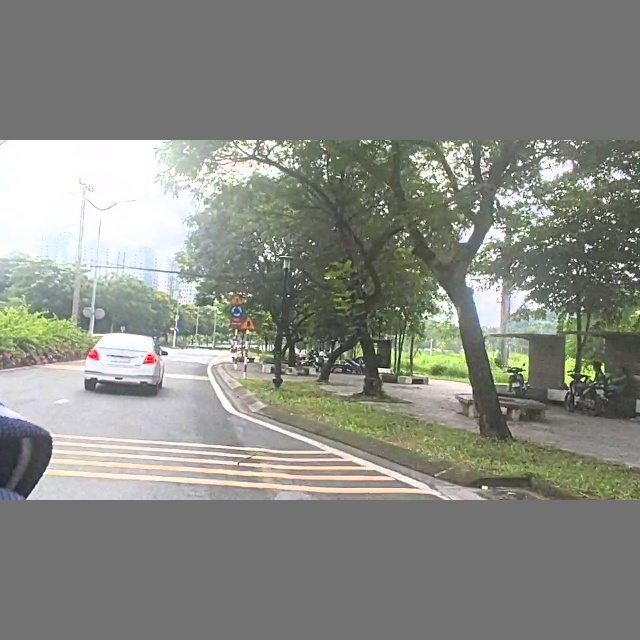P.102: (168, 326, 174, 331)
R.302a: (174, 326, 181, 333)
R.303: (230, 305, 245, 317)
W.207: (241, 317, 257, 330)
W.224: (230, 294, 243, 305)
